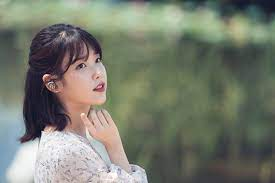earphone: (41, 73, 65, 93)
